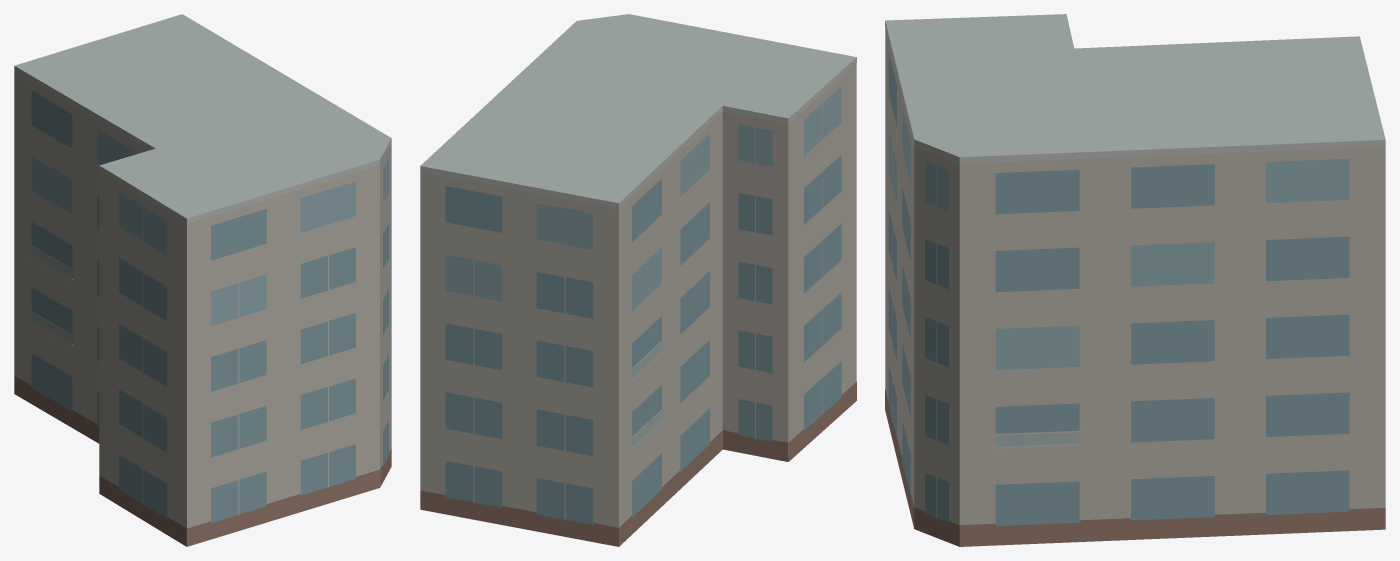
File: survey-upis-32663095.glb
3 views of the same model, side by side, from view 1: azimuth 30°, elevation 25°; view 2: azimuth 150°, elevation 25°; view 3: azimuth 270°, elevation 25° (orthographic). The views are drawn at different scales.
Parts seen in each view (by area): view 1: survey-upis-32663095.tmp; view 2: survey-upis-32663095.tmp; view 3: survey-upis-32663095.tmp.
Boxes of the visible parts, x1=… form: survey-upis-32663095.tmp: x1=14, y1=14, x2=391, y2=546; survey-upis-32663095.tmp: x1=420, y1=14, x2=856, y2=546; survey-upis-32663095.tmp: x1=885, y1=14, x2=1385, y2=546.
Bounding box in the file's own units: 11.44 × 14.5 × 16.89.
